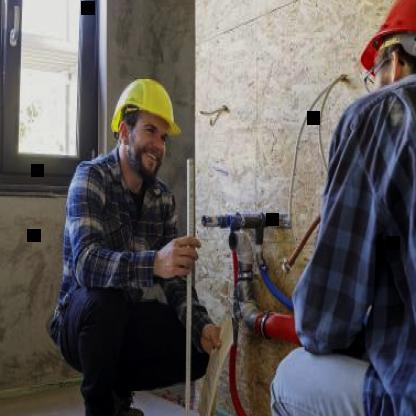helmet: (111, 75, 178, 177), (356, 0, 416, 96)
